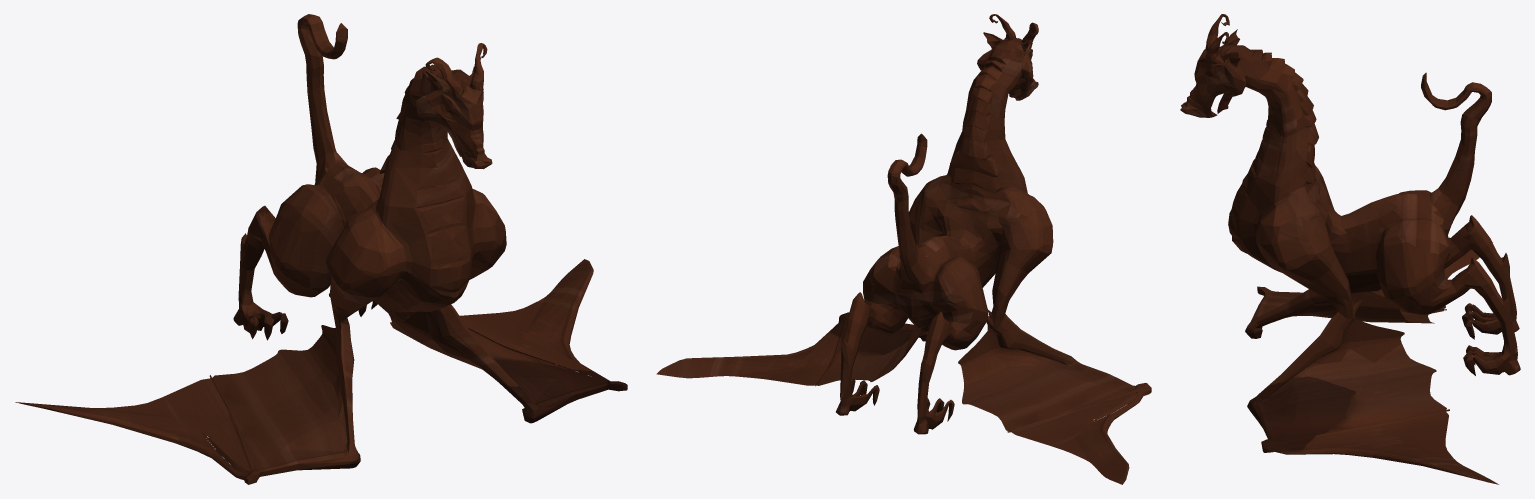
Rendered from dragon.obj.
3 views of the same model, side by side, from view 1: azimuth 30°, elevation 25°; view 2: azimuth 150°, elevation 25°; view 3: azimuth 270°, elevation 25° (orthographic). The views are drawn at different scales.
Parts seen in each view (by area): view 1: Dragon.001_Plane.001; view 2: Dragon.001_Plane.001; view 3: Dragon.001_Plane.001.
Boxes of the visible parts, bbox=[...] form: Dragon.001_Plane.001: bbox=[15, 14, 627, 484]; Dragon.001_Plane.001: bbox=[656, 14, 1151, 484]; Dragon.001_Plane.001: bbox=[1180, 14, 1520, 484].
Bounding box in the file's own units: 14.75 × 10.03 × 8.75.
